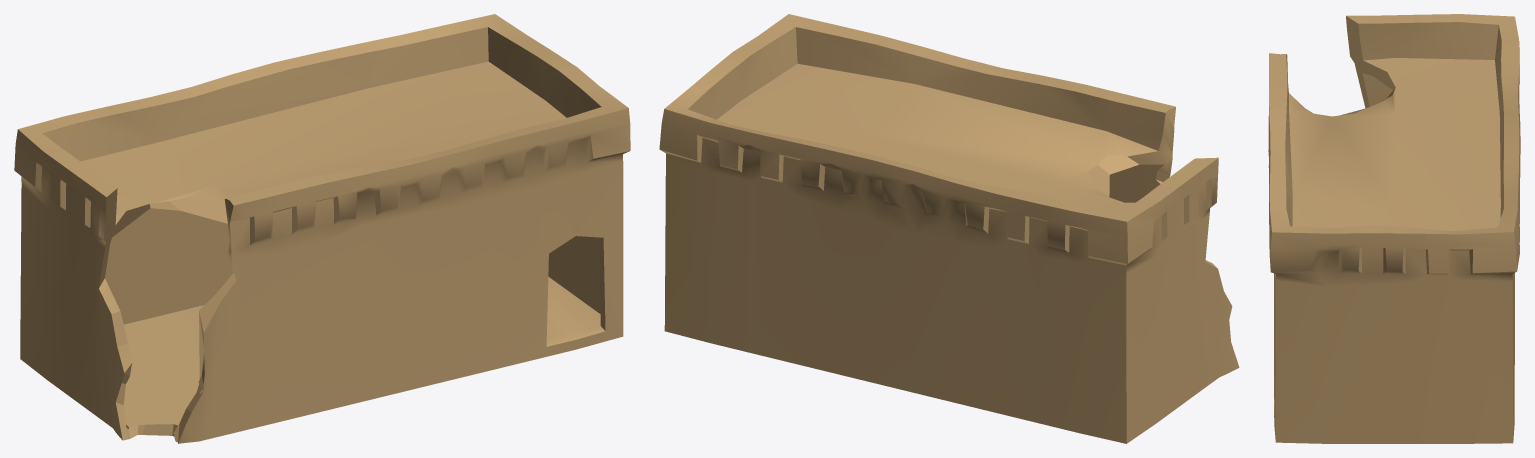
Rendered from Ruins_BuildingWide_01.fbx.
3 renders of one model, left to right at view 1: azimuth 30°, elevation 25°; view 2: azimuth 150°, elevation 25°; view 3: azimuth 270°, elevation 25°, orthographic. The views are drawn at different scales.
Visible parts, largest first — view 1: Building_01_WideBroken; view 2: Building_01_WideBroken; view 3: Building_01_WideBroken.
Part boxes in pixels (x1,y1,x2,y2): Building_01_WideBroken: (14,14,630,443); Building_01_WideBroken: (659,14,1239,443); Building_01_WideBroken: (1268,14,1520,443).
Size of the model in its own units: 1074 by 487 by 521.
